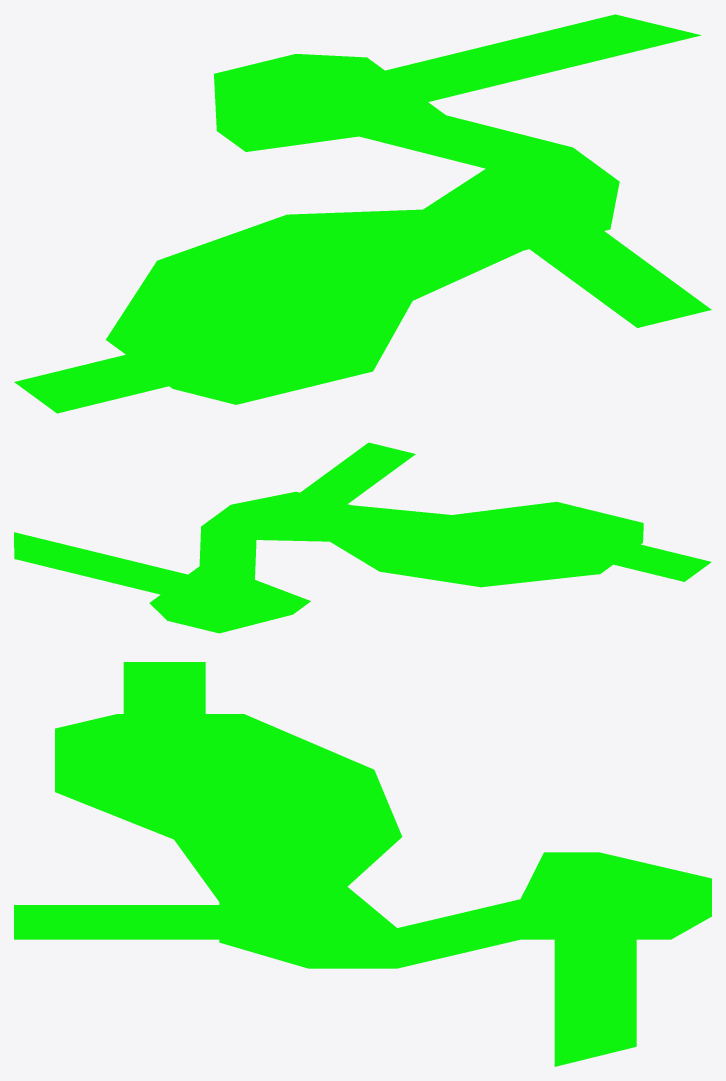
The model's file is s01b_tb3-floor.glb.
3 views of the same model, one above another, from view 1: azimuth 30°, elevation 25°; view 2: azimuth 150°, elevation 25°; view 3: azimuth 270°, elevation 25° (orthographic). The views are drawn at different scales.
Parts seen in each view (by area): view 1: collision_floor-colonly; view 2: collision_floor-colonly; view 3: collision_floor-colonly.
Boxes of the visible parts, left/top/right/bottom form: collision_floor-colonly: left=14, top=14, right=711, bottom=413; collision_floor-colonly: left=14, top=442, right=711, bottom=633; collision_floor-colonly: left=14, top=662, right=711, bottom=1066.
Size of the model in its own units: 70 by 0 by 50.99.
